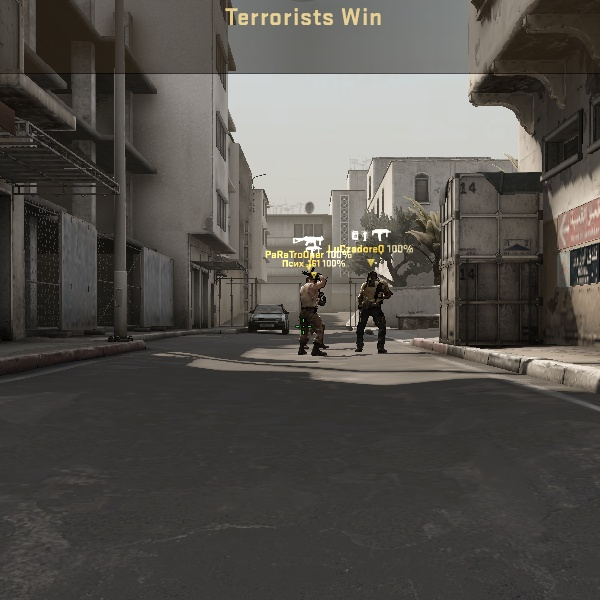t_body: (346, 264, 399, 355), (292, 270, 329, 356)
t_head: (367, 271, 379, 283)
